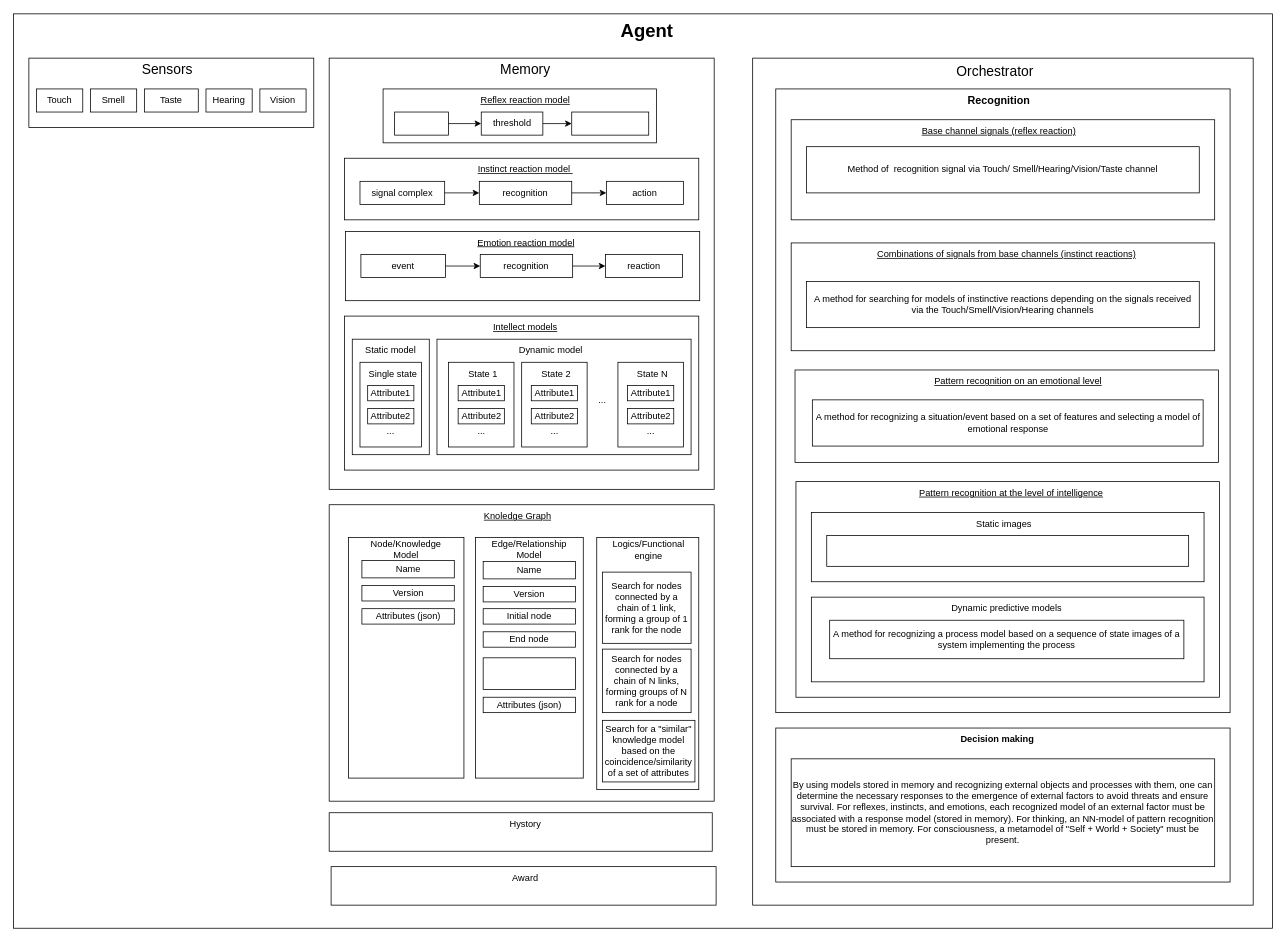
This 1286x942 diagram has some shape labels left out. The centre of each missing label's shape, as x and y in pixels:
"chennel" belongs at (x=421, y=123).
"Method of recognizing an object by a set of features" belongs at (x=1007, y=550).
"reaction model" belongs at (x=610, y=123).
"Types by classification (json)" belongs at (x=529, y=673).
